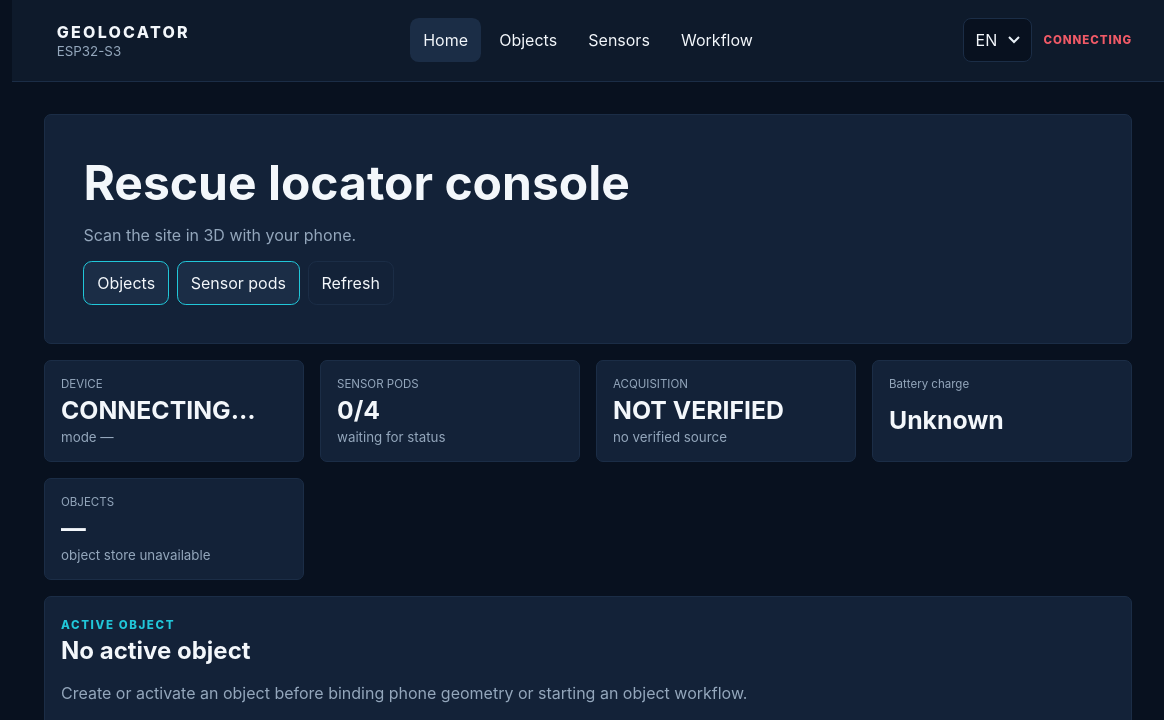
presentation-only locale changes › keeps the view coherent as locale changes during a status poll and job completion
Click the 1st button "Objects": click(528, 40) [486, 18, 570, 62]
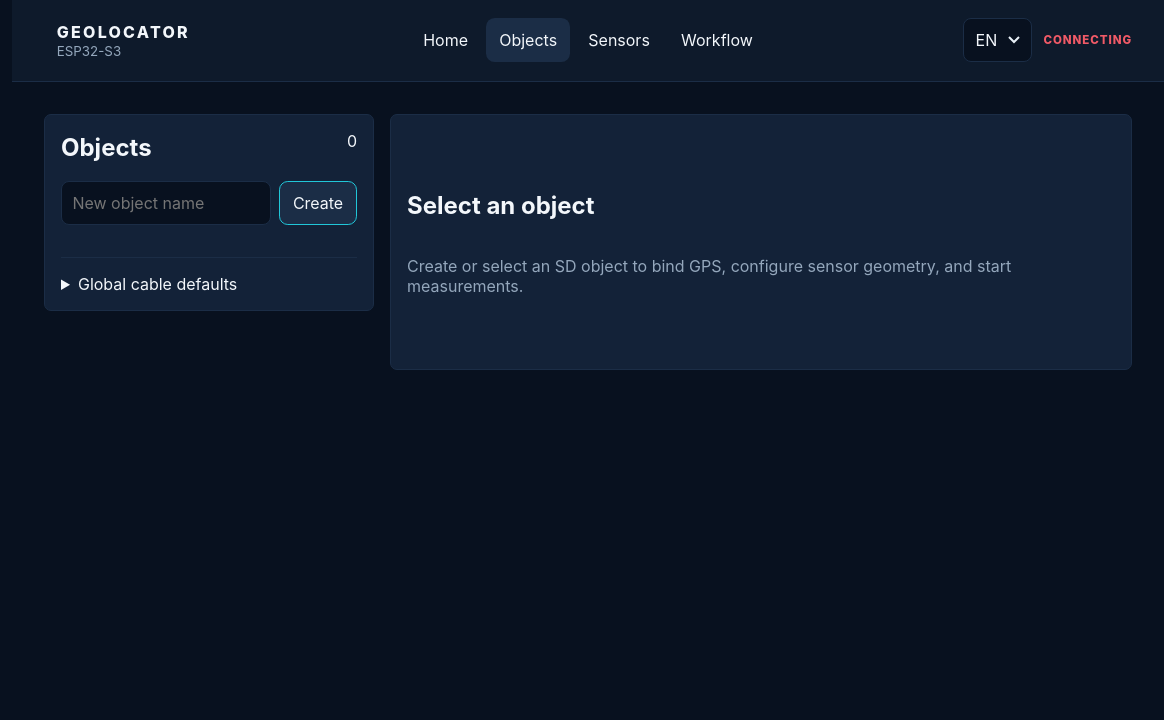
Submit the form, box [61, 181, 357, 225]
(page scrolled)
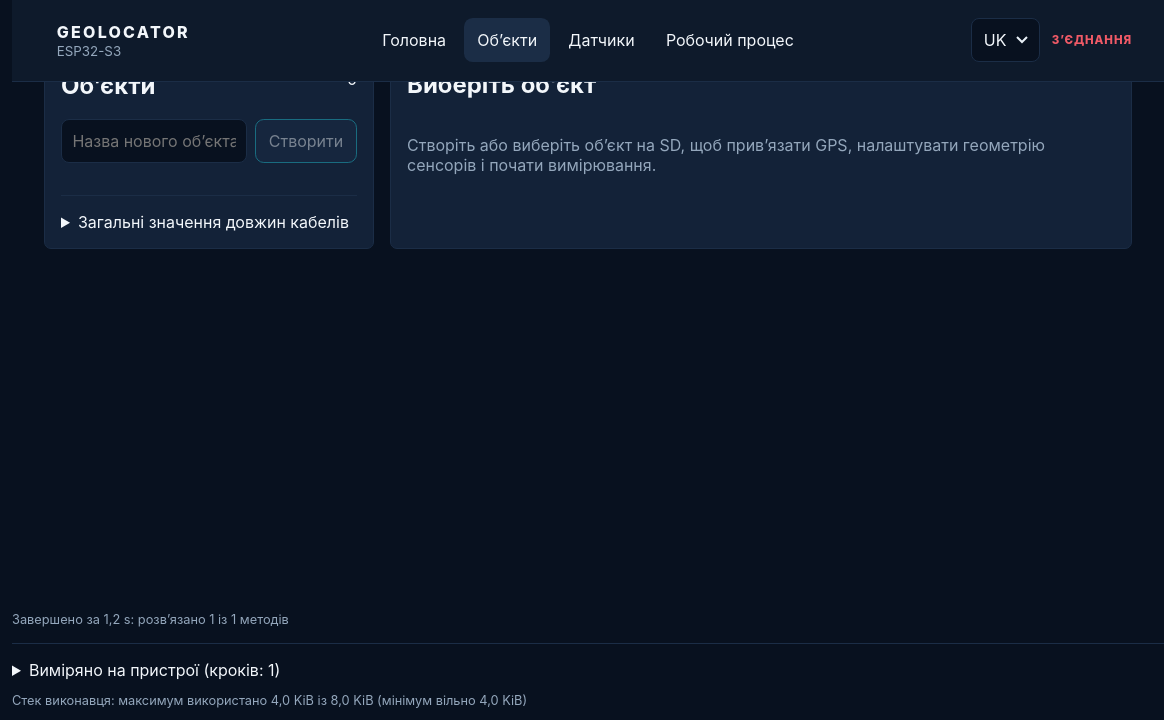
Check: the dropdown named "Мова" shows "UK", box [971, 18, 1040, 62]
